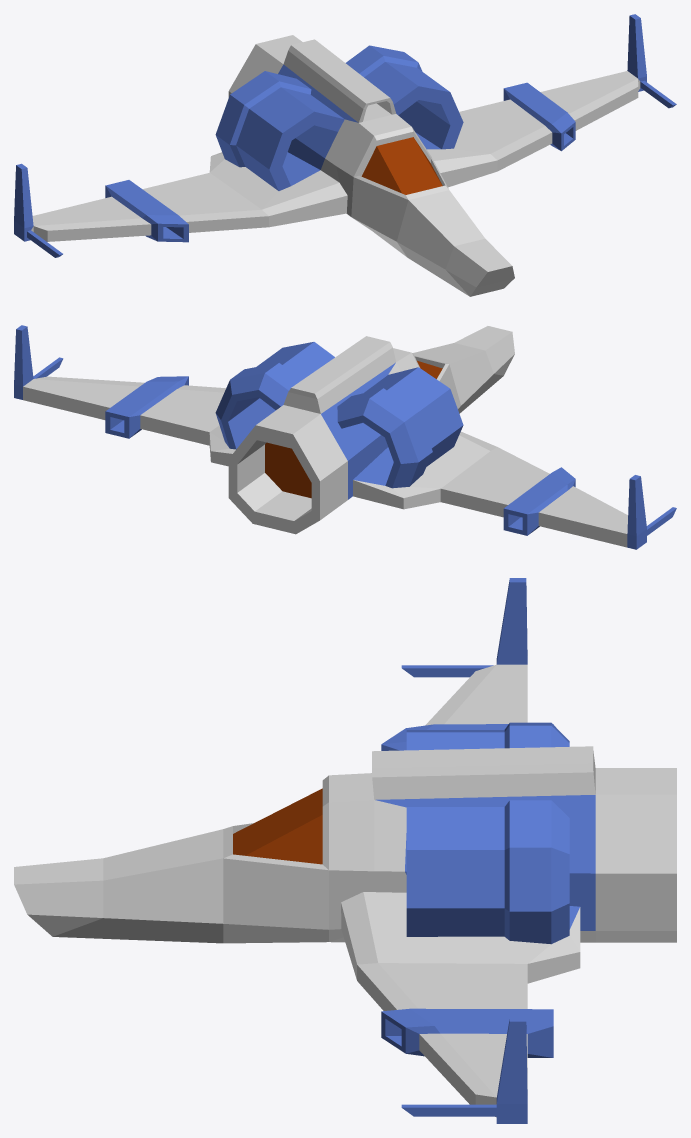
The model's file is Spaceship3.glb.
3 renders of one model, top to bottom at view 1: azimuth 30°, elevation 25°; view 2: azimuth 150°, elevation 25°; view 3: azimuth 270°, elevation 25°, orthographic. The views are drawn at different scales.
Parts seen in each view (by area): view 1: Spaceship2; view 2: Spaceship2; view 3: Spaceship2.
Part boxes in pixels (box(x1,y1,x2,y2)): Spaceship2: box(14, 14, 676, 296); Spaceship2: box(14, 325, 676, 549); Spaceship2: box(14, 578, 676, 1123).
Bounding box in the file's own units: 6.48 × 1.17 × 4.07.
